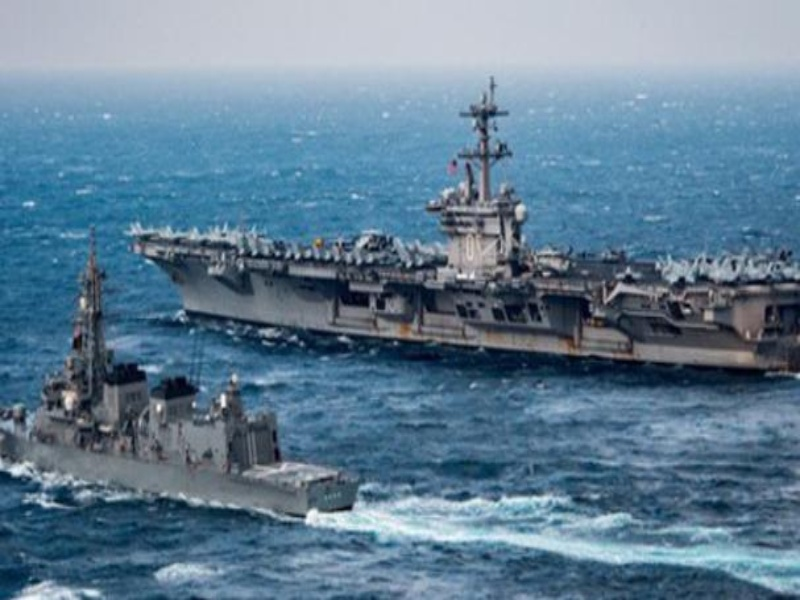carrier: (139, 154, 800, 373)
cruise: (20, 286, 357, 516)
